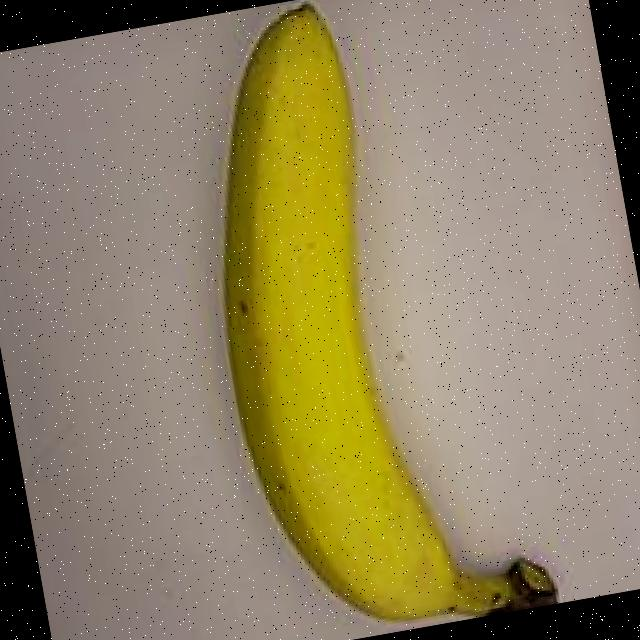Ripe: (97, 0, 580, 640)
